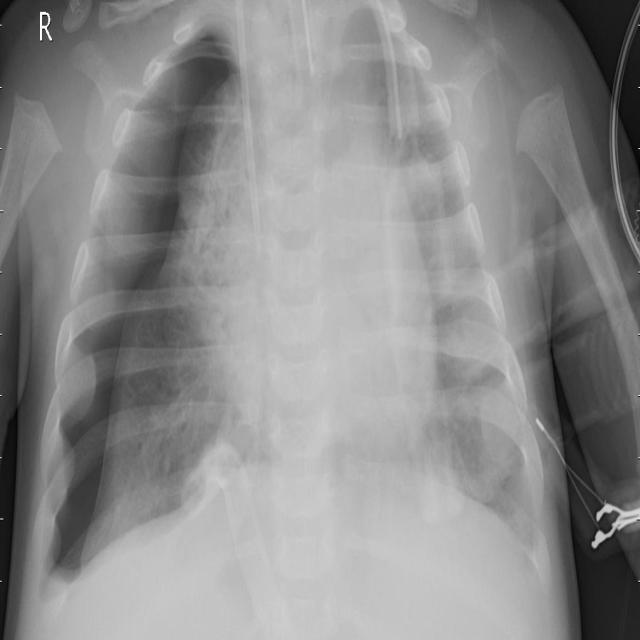high-pneumonia: (408, 166, 503, 354), (325, 2, 430, 169), (439, 359, 538, 526)
low-pneumonia: (87, 223, 226, 564)
